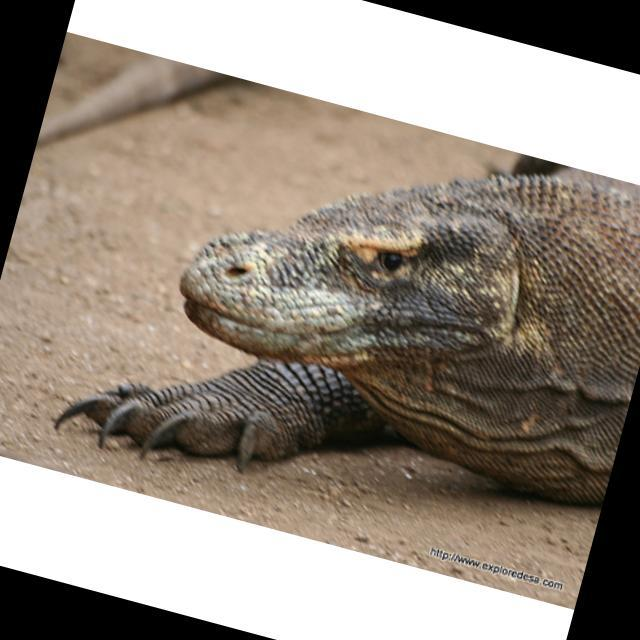KomodoDragon: (45, 52, 640, 579)
